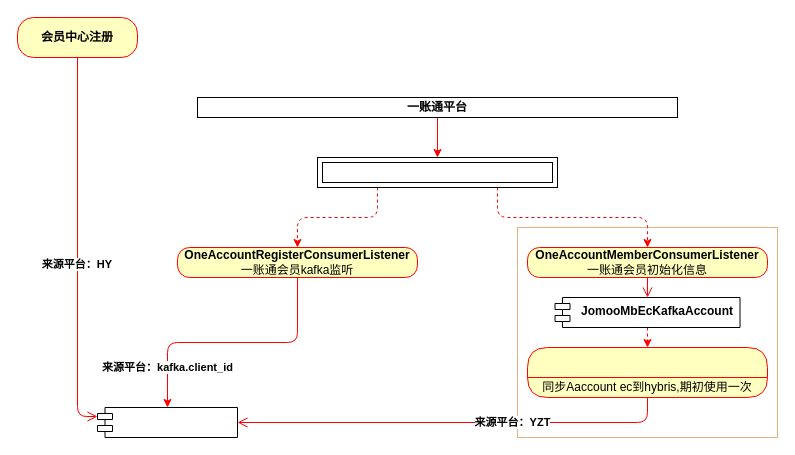
The diagram is 795 pixels wide and 455 high, and some of its shapes have lost their labels. The shapes that lost their labels are listed below. From the top down, each one's box as (x1, y1, x2, y2) in pixels, then its label:
(316, 156, 558, 188): 一账通Kafka
(526, 346, 768, 398): SyncAccountFromECToHybrisCronjob
(96, 406, 238, 438): JomooMbAccount
